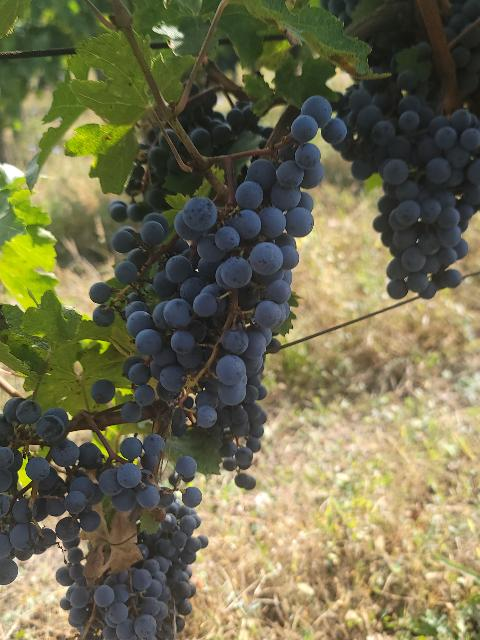grapes: (121, 100, 338, 431), (335, 88, 480, 299), (0, 456, 100, 580), (69, 434, 175, 511), (0, 398, 80, 491)
